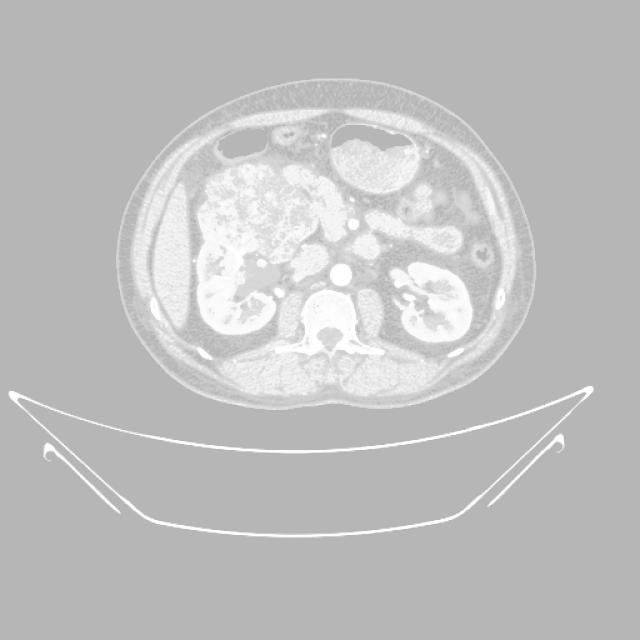TUMOR: (148, 204, 479, 337)
